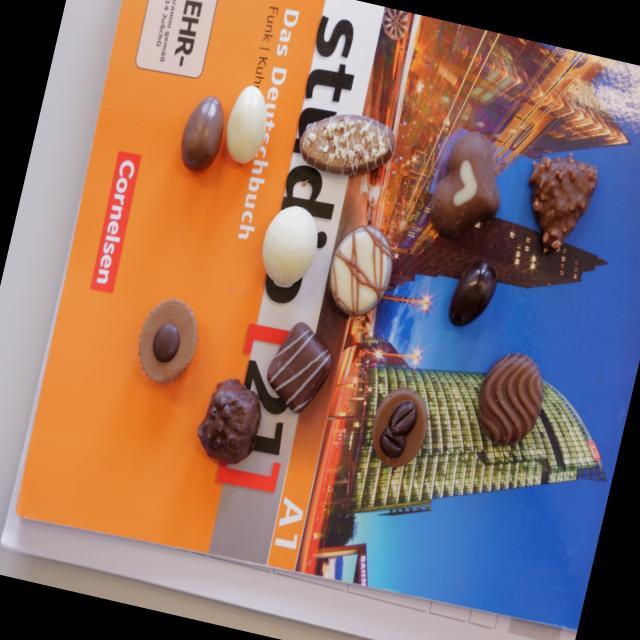Amandina: (294, 102, 399, 186)
Arabia: (364, 382, 434, 472)
Comtesse: (254, 200, 324, 292)
Creme_brulee: (320, 219, 399, 321)
Jelly_Black: (444, 258, 498, 332)
Jelly_Milk: (176, 92, 230, 176)
Jelly_White: (220, 82, 274, 168)
Noblesse: (129, 291, 205, 391)
Noir_authentique: (468, 346, 551, 454)
Passion_au_lait: (422, 124, 513, 246)
Stracciatella: (260, 318, 336, 417)
Tentation_noir: (192, 375, 266, 467)
Triangolo: (514, 146, 599, 258)
